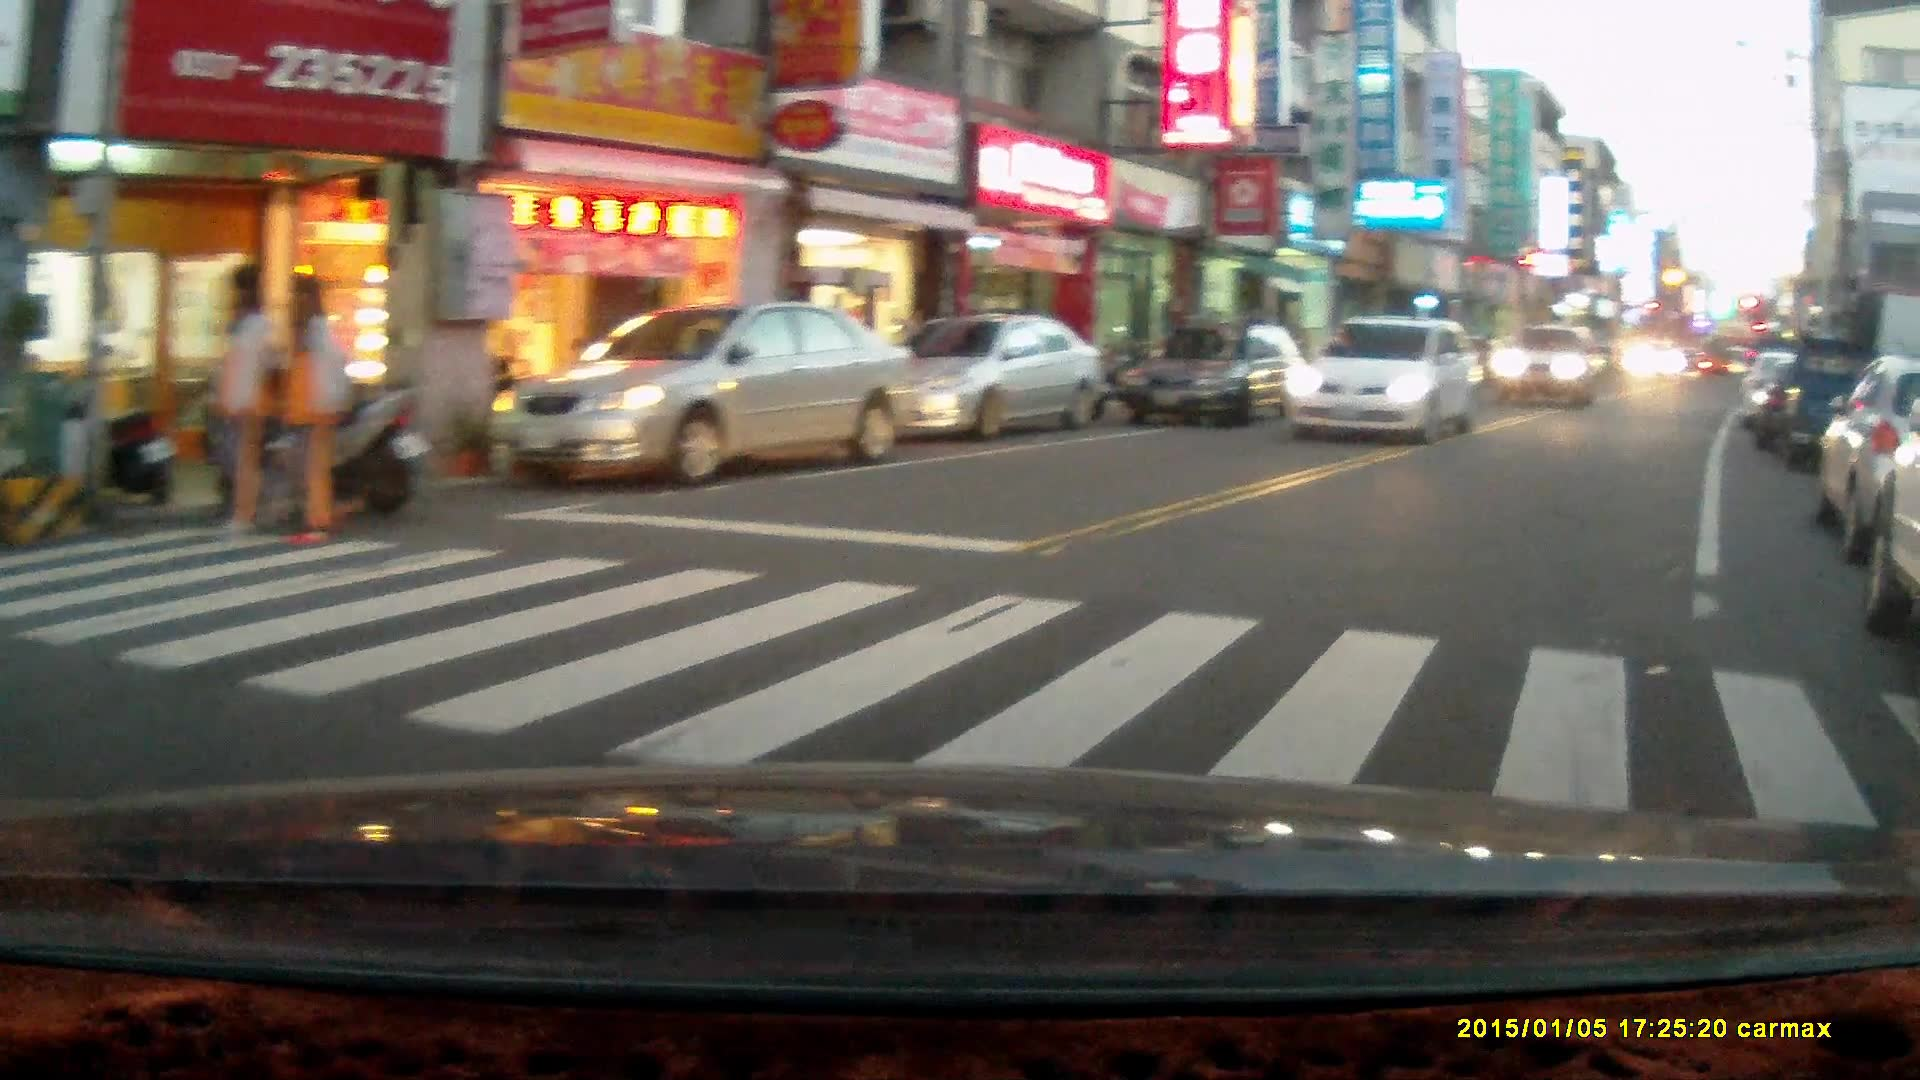pedestrian: (249, 275, 374, 551), (206, 266, 286, 542)
vehicle: (489, 299, 918, 487), (852, 315, 1104, 438), (1284, 313, 1488, 448), (1123, 325, 1316, 433), (1480, 324, 1611, 411), (1623, 337, 1684, 389)
